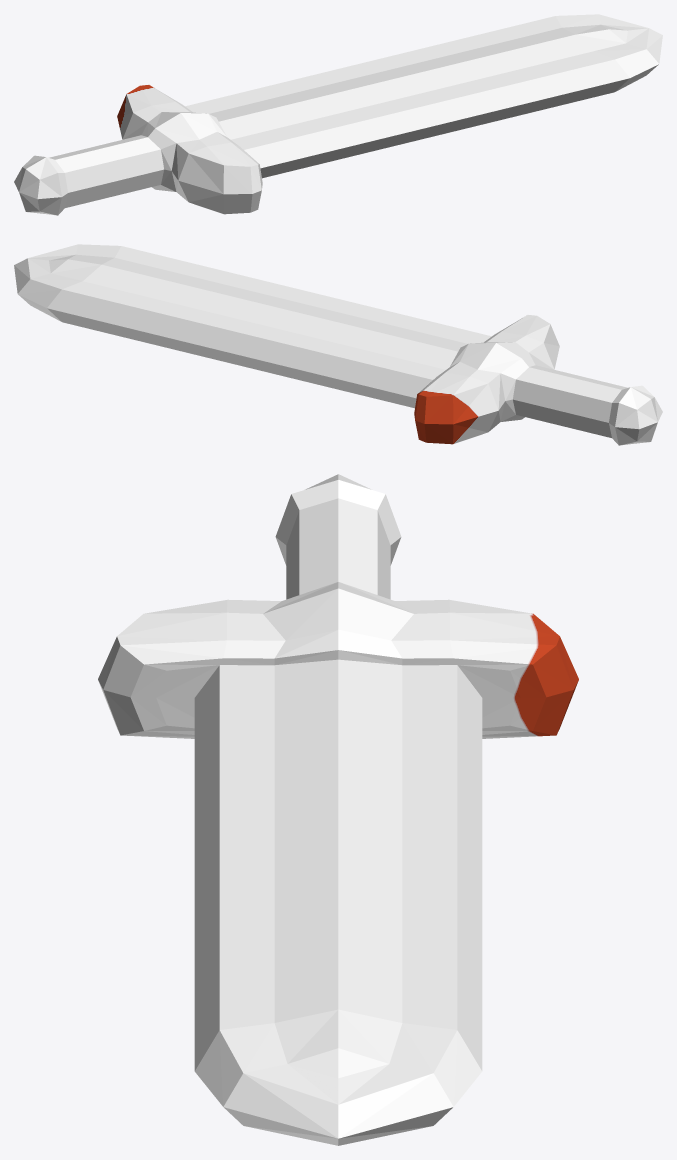
The model's file is sword.obj.
3 renders of one model, top to bottom at view 1: azimuth 30°, elevation 25°; view 2: azimuth 150°, elevation 25°; view 3: azimuth 270°, elevation 25°, orthographic. The views are drawn at different scales.
Visible parts, largest first — view 1: Sword_Hammer.003; view 2: Sword_Hammer.003; view 3: Sword_Hammer.003.
Part boxes in pixels (box(x1,y1,x2,y2)): Sword_Hammer.003: box(14, 14, 662, 215); Sword_Hammer.003: box(14, 244, 662, 445); Sword_Hammer.003: box(98, 474, 578, 1145).
Bounding box in the file's own units: 3.6 × 0.4253 × 1.16.
